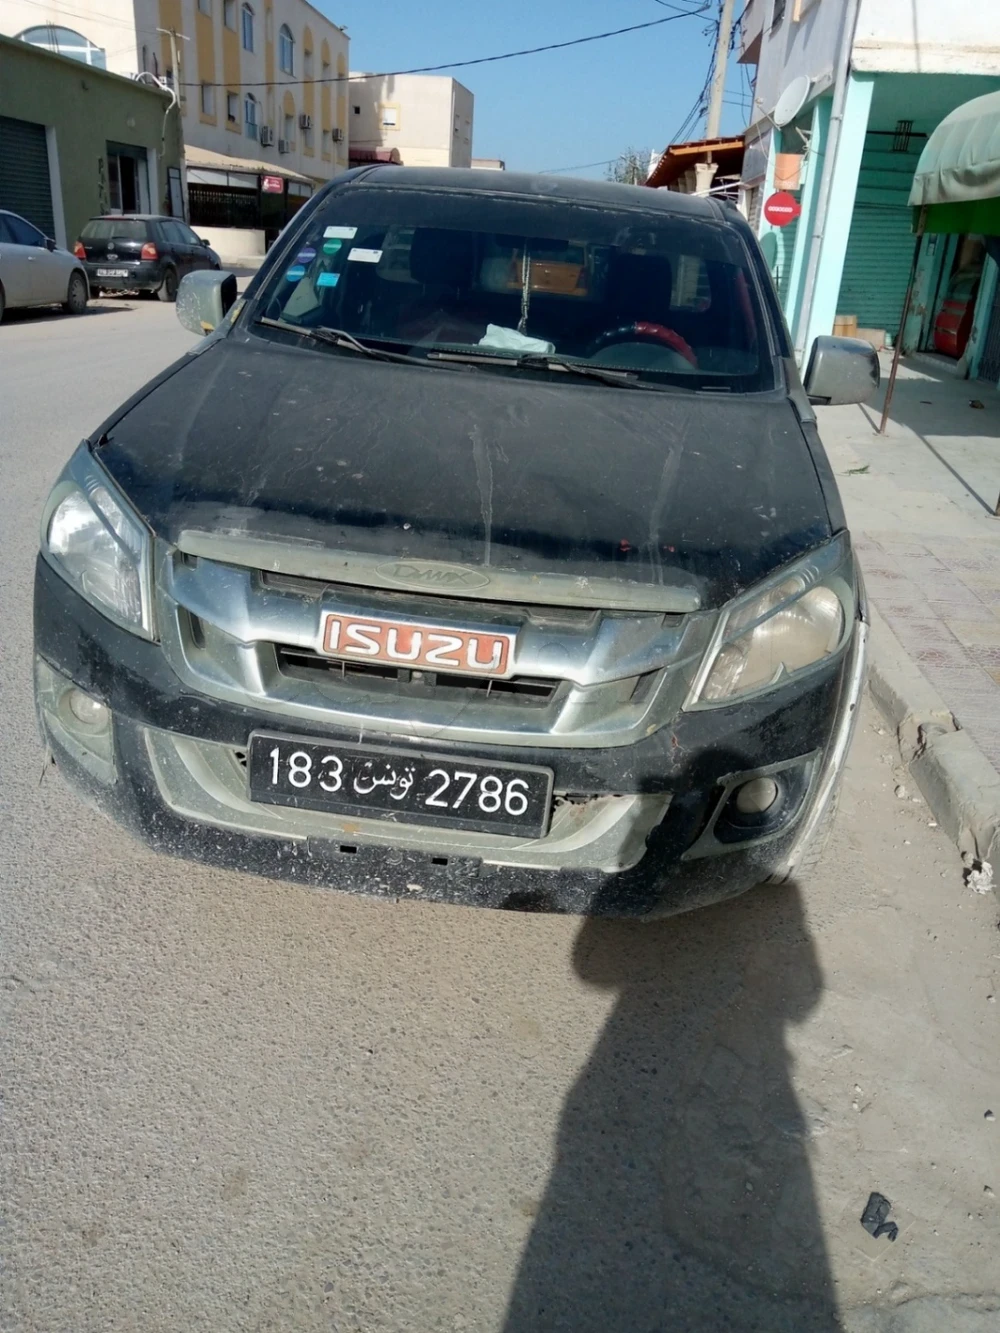isuzu: (29, 163, 868, 926)
volkswagen: (68, 199, 221, 322)
